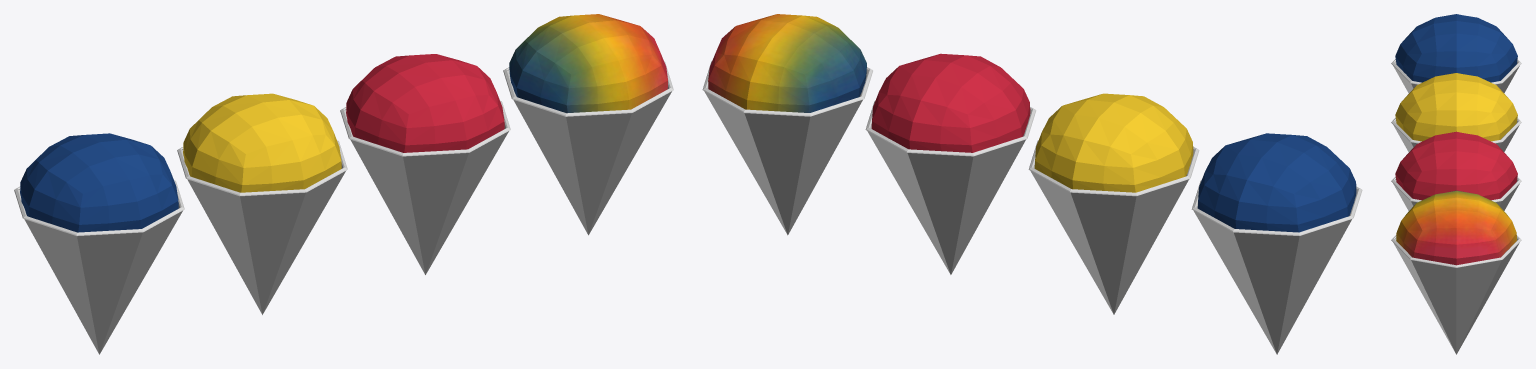
File: 46f4f029-007f-4c44-a078-4bf5818fdf36.glb
3 views of the same model, side by side, from view 1: azimuth 30°, elevation 25°; view 2: azimuth 150°, elevation 25°; view 3: azimuth 270°, elevation 25° (orthographic). The views are drawn at different scales.
Parts seen in each view (by area): view 1: Node; view 2: Node; view 3: Node.
Boxes of the visible parts, left/top/right/bottom form: Node: left=14, top=14, right=673, bottom=354; Node: left=702, top=14, right=1362, bottom=354; Node: left=1391, top=14, right=1521, bottom=354.
Bounding box in the file's own units: 8.81 × 2.79 × 2.1.
5 materials, 1 textured.
